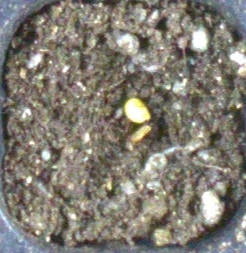pepper seed: (52, 52, 205, 195), (46, 35, 198, 160)
